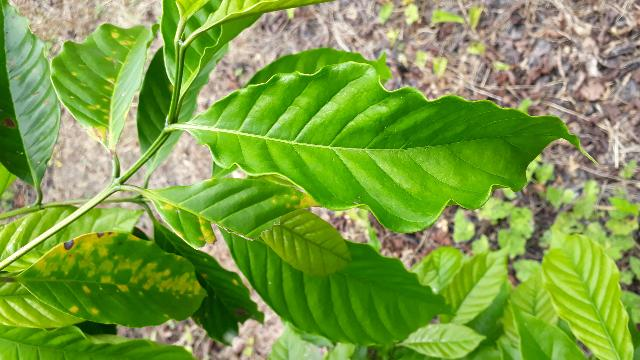healthy: (185, 60, 601, 233)
